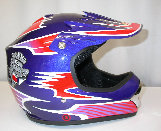helmet: (8, 17, 140, 115)
